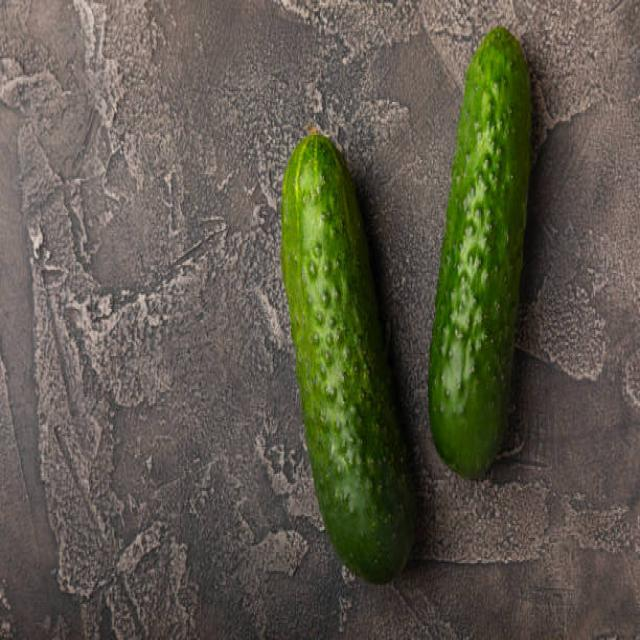cucumber: (281, 135, 419, 586), (427, 28, 534, 477)
